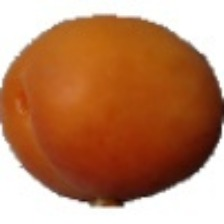apricot: (31, 16, 184, 201)
